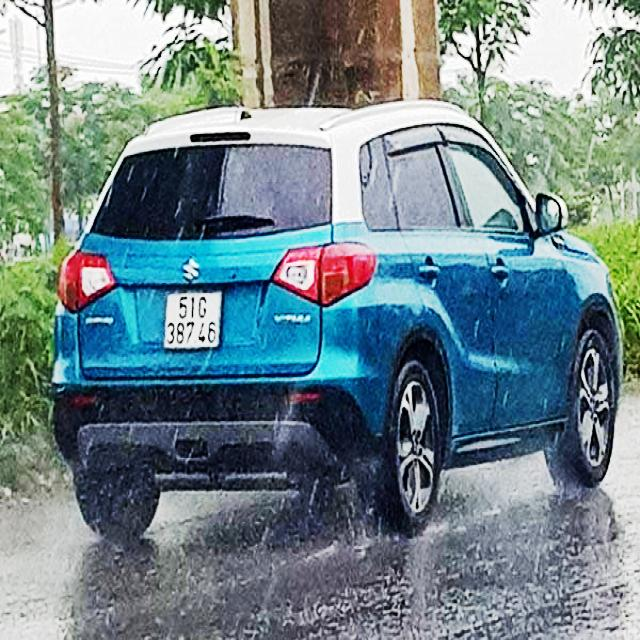license_plate: (163, 292, 223, 349)
